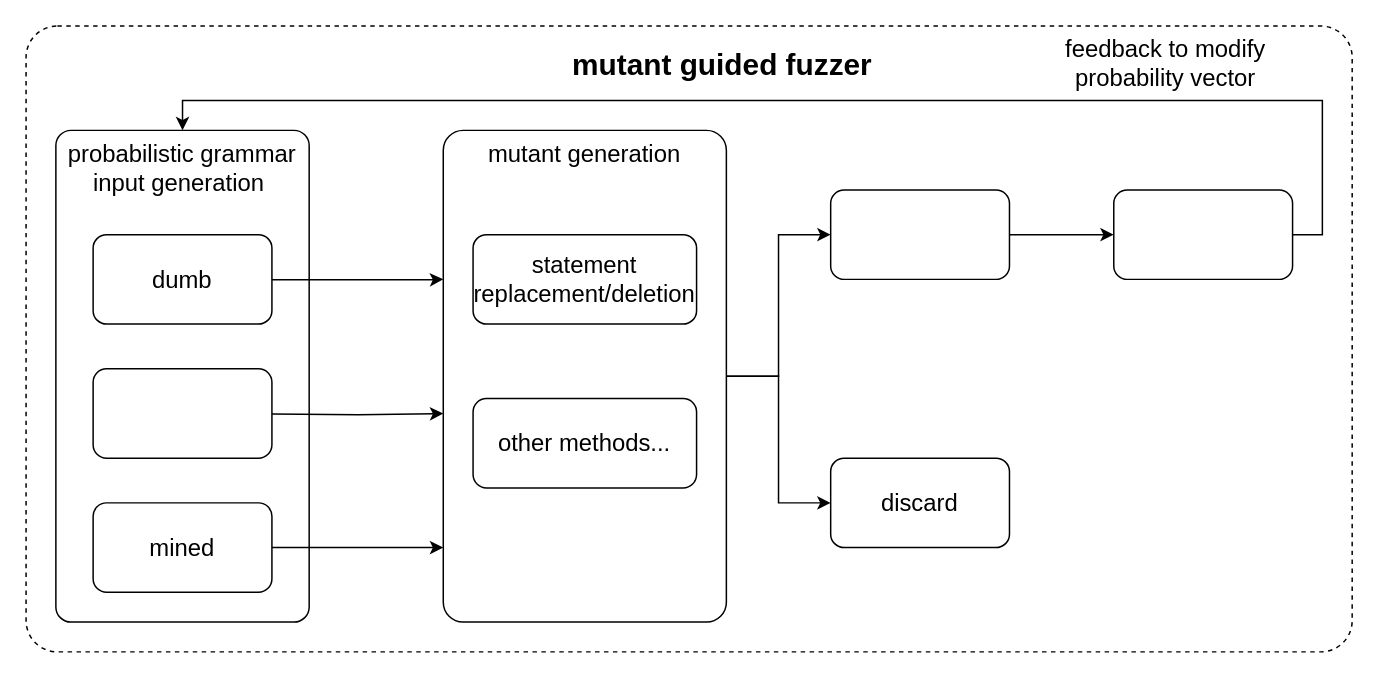
Image size: 1378x678. Some labels were removed from this diagram. Each missing label, with the centre of its shape:
corpus: point (919, 233)
mutation: point (1202, 233)
uniform: point (182, 412)
